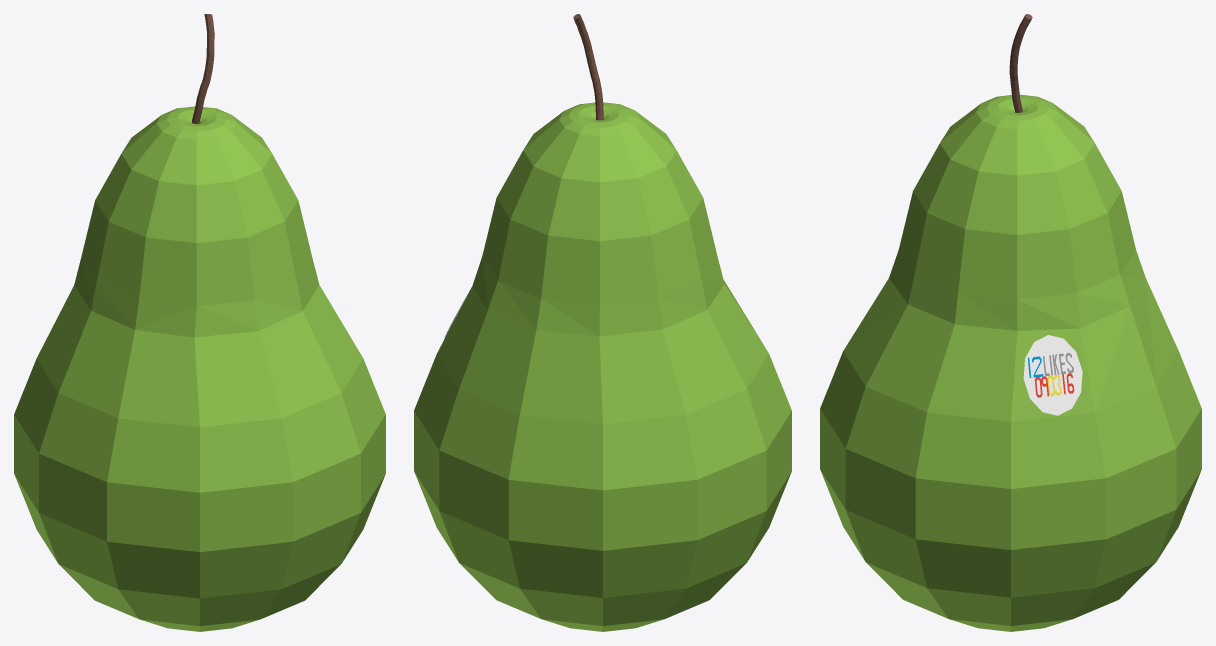
The model's file is pear.glb.
3 views of the same model, side by side, from view 1: azimuth 30°, elevation 25°; view 2: azimuth 150°, elevation 25°; view 3: azimuth 270°, elevation 25° (orthographic). The views are drawn at different scales.
Visible parts, largest first — view 1: group1973718308, group1455987961, group658648467; view 2: group1973718308, group1455987961, group658648467; view 3: group1455987961, group1973718308, group601068513, group658648467.
Part boxes in pixels (x1,y1,x2,y2): group1973718308: [36, 106, 363, 427]; group1455987961: [14, 359, 385, 631]; group658648467: [192, 14, 214, 123]; group1973718308: [437, 102, 768, 423]; group1455987961: [414, 354, 791, 631]; group658648467: [573, 14, 603, 120]; group1455987961: [820, 351, 1201, 631]; group1973718308: [843, 94, 1178, 421]; group601068513: [1023, 335, 1082, 415]; group658648467: [1009, 14, 1032, 112].
Size of the model in its own units: 3.24 by 5.69 by 3.24.
